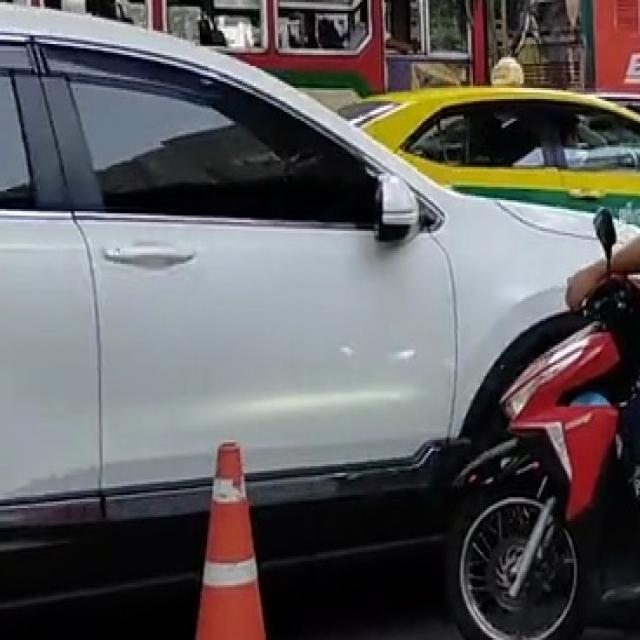door: (0, 30, 457, 523)
tyre: (444, 477, 584, 638)
